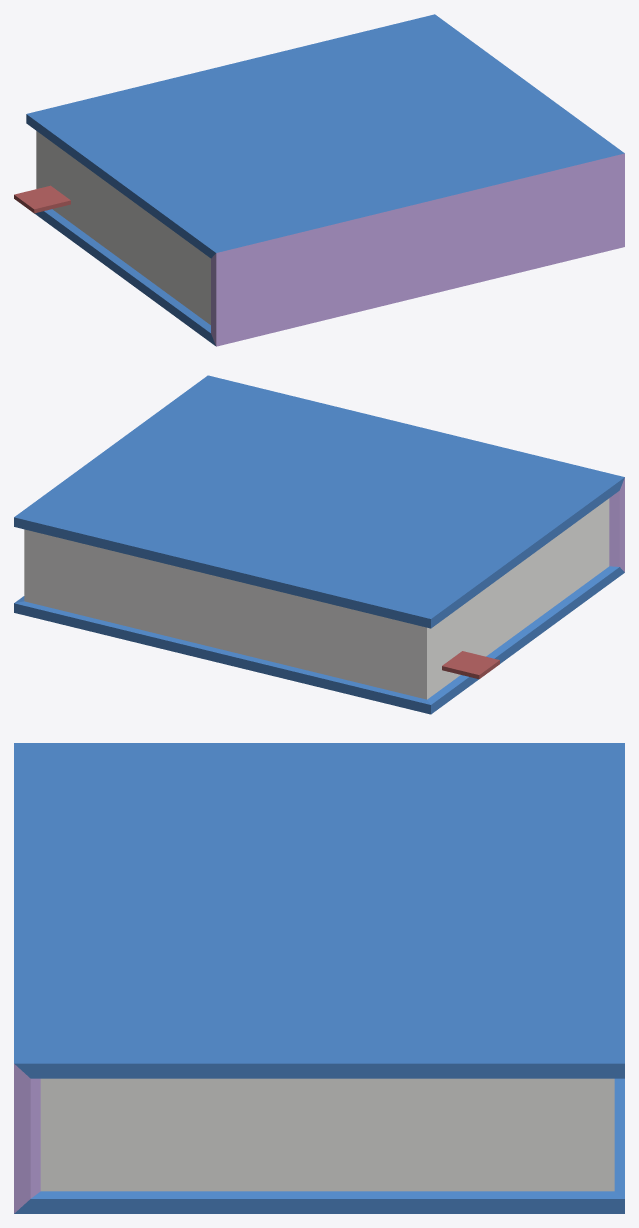
File: Book_4.fbx
3 views of the same model, one above another, from view 1: azimuth 30°, elevation 25°; view 2: azimuth 150°, elevation 25°; view 3: azimuth 270°, elevation 25° (orthographic). The views are drawn at different scales.
Parts seen in each view (by area): view 1: Book_4; view 2: Book_4; view 3: Book_4.
Boxes of the visible parts, box(x1,y1,x2,y2) form: Book_4: box(14, 14, 624, 346); Book_4: box(14, 375, 624, 714); Book_4: box(14, 743, 624, 1213).
Size of the model in its own units: 35.66 by 26.77 by 7.27.
